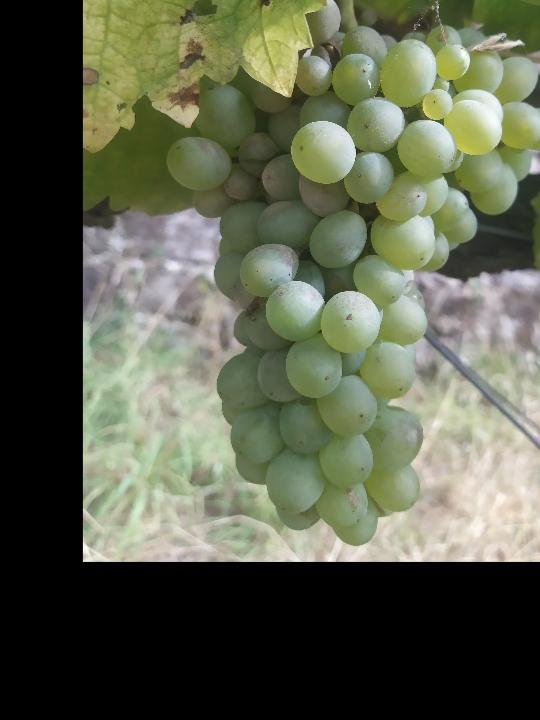grape: (161, 0, 540, 548)
